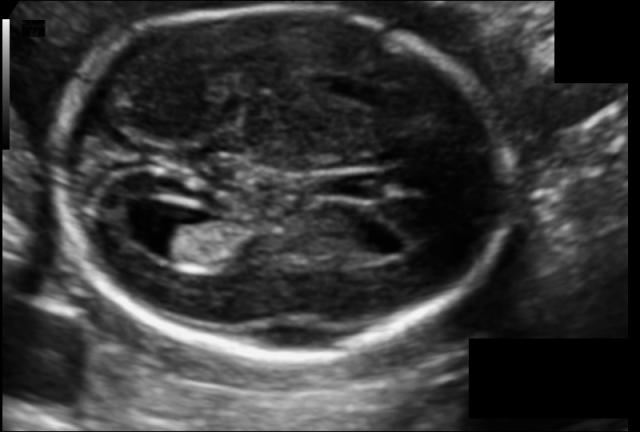CHOROID_PLEXUS: (150, 208, 275, 282)
CSP: (338, 147, 442, 219)
MIDLINE_FALX: (58, 110, 537, 234)
